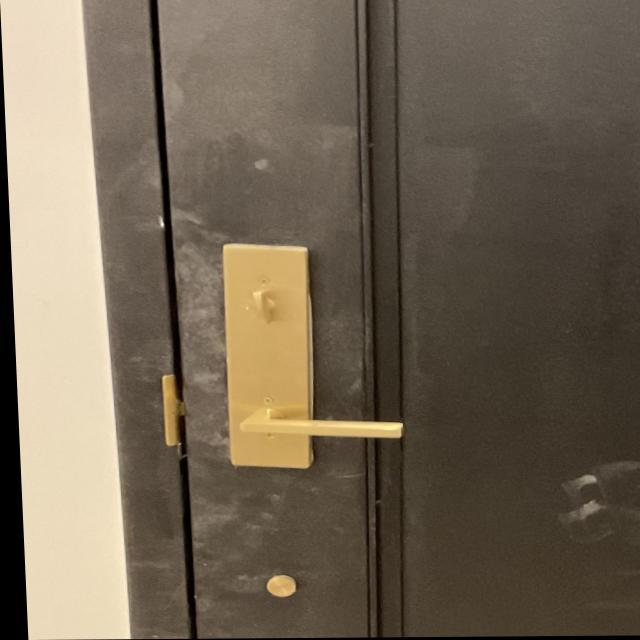door_handle: (201, 394, 424, 458)
